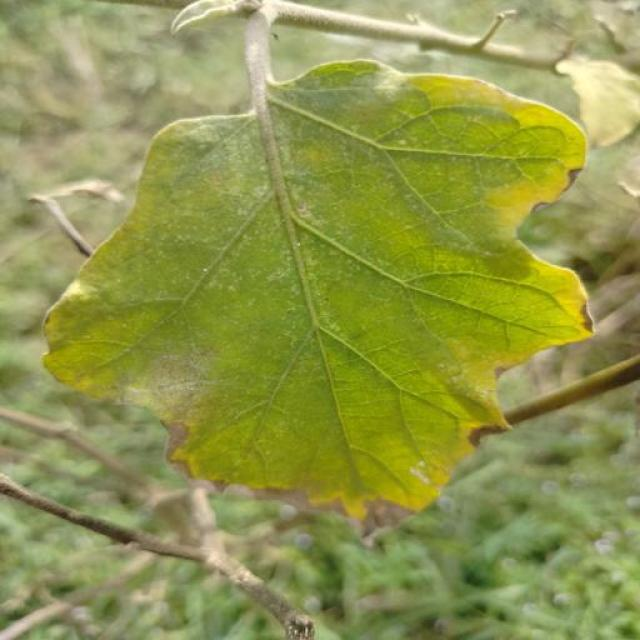leaf_spot: (100, 116, 576, 494)
